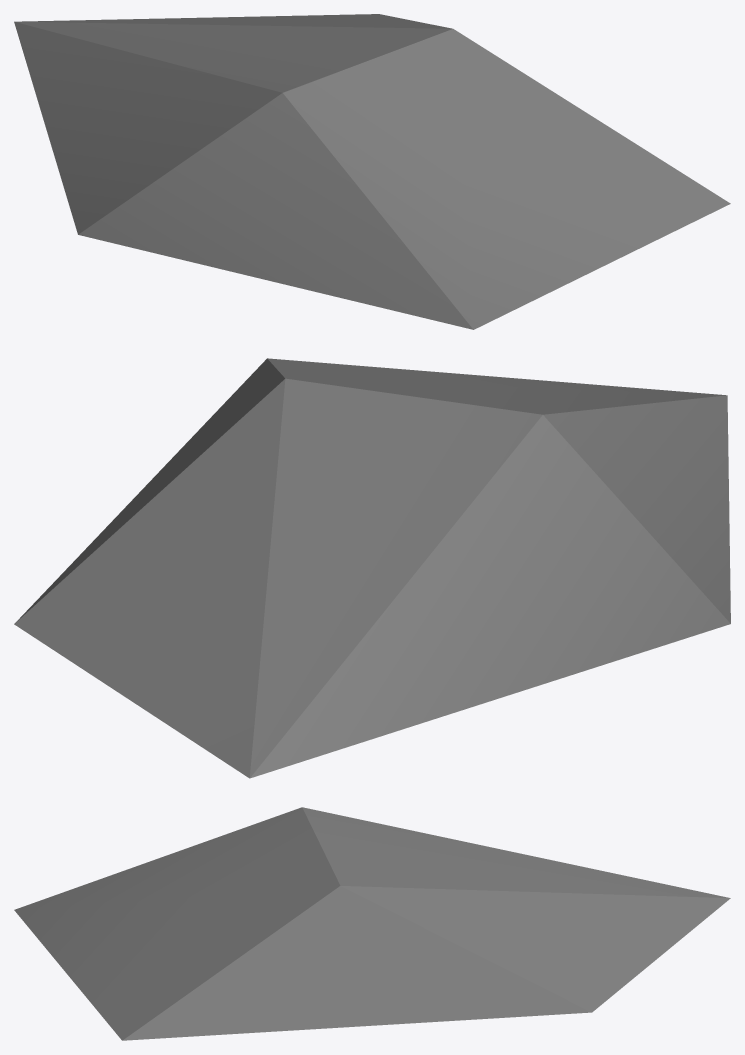
The model's file is stone_3.glb.
The picture shows the model from 3 angles, top to bottom: view 1: azimuth 30°, elevation 25°; view 2: azimuth 150°, elevation 25°; view 3: azimuth 270°, elevation 25°; orthographic projection. The views are drawn at different scales.
Visible parts, largest first — view 1: stone_3; view 2: stone_3; view 3: stone_3.
Part boxes in pixels (x1,y1,x2,y2): stone_3: (14,14,730,329); stone_3: (14,358,730,778); stone_3: (14,807,730,1040).
Bounding box in the file's own units: 0.3378 × 0.071 × 0.4834.
Materials: 1 (1 with a texture image).
